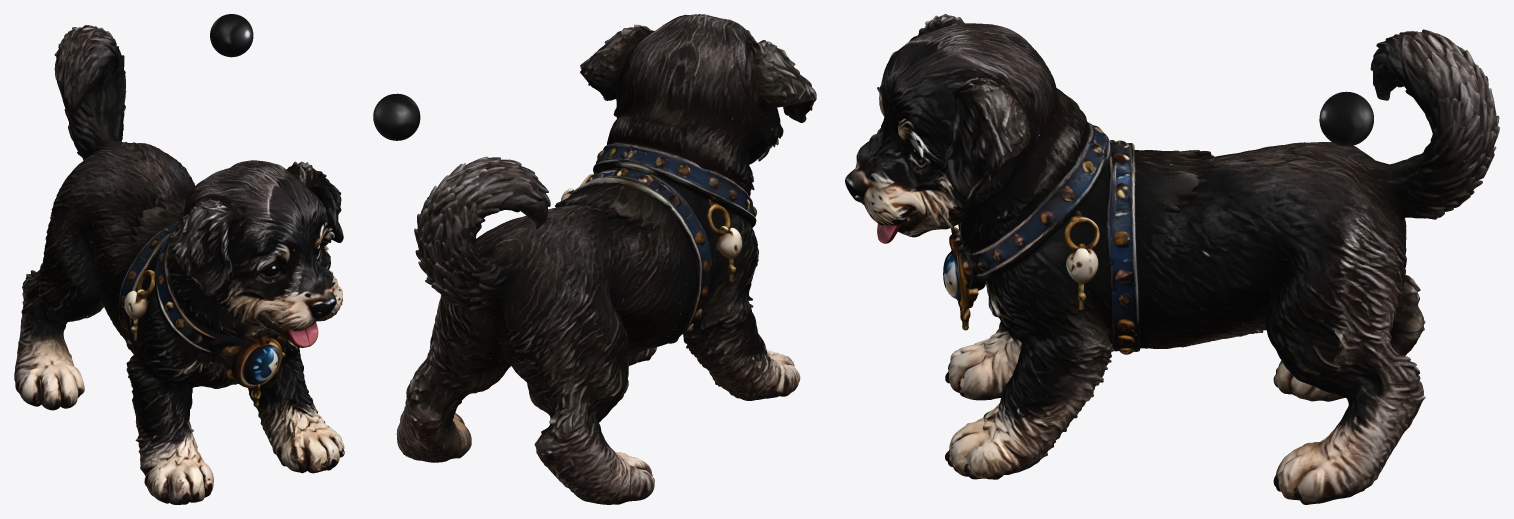
Rendered from stage_ii.glb.
3 views of the same model, side by side, from view 1: azimuth 30°, elevation 25°; view 2: azimuth 150°, elevation 25°; view 3: azimuth 270°, elevation 25° (orthographic). The views are drawn at different scales.
Parts seen in each view (by area): view 1: tripo_node_5542d037-bbb4-45a5-b82c-cce6d3c3c462; view 2: tripo_node_5542d037-bbb4-45a5-b82c-cce6d3c3c462; view 3: tripo_node_5542d037-bbb4-45a5-b82c-cce6d3c3c462.
Boxes of the visible parts, x1,y1,x2,y2 form: tripo_node_5542d037-bbb4-45a5-b82c-cce6d3c3c462: (14, 14, 344, 504); tripo_node_5542d037-bbb4-45a5-b82c-cce6d3c3c462: (373, 14, 816, 504); tripo_node_5542d037-bbb4-45a5-b82c-cce6d3c3c462: (845, 14, 1499, 504).
Bounding box in the file's own units: 0.539 × 0.6975 × 0.9999.
Materials: 1 (1 with a texture image).
